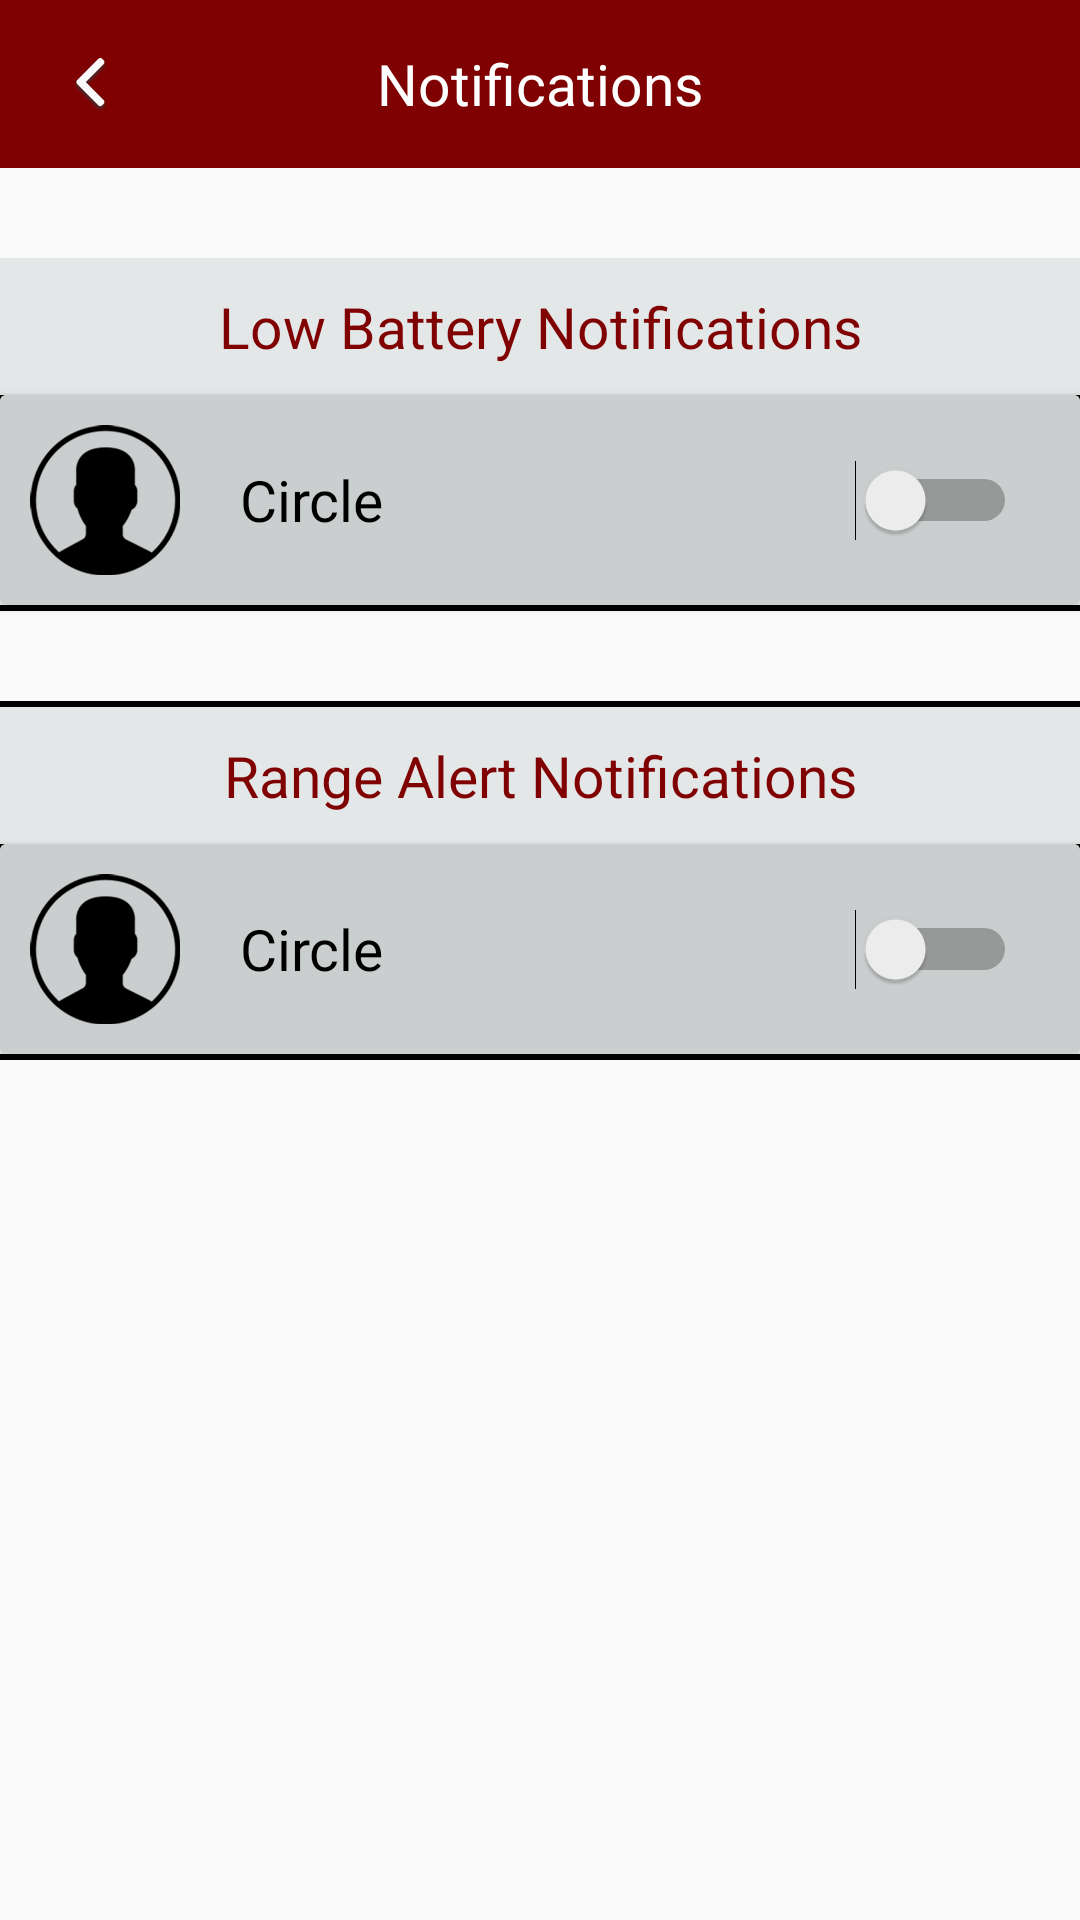

Icons on this 1080x1920 Android screen, each with its box as (x1, y1, x2, y2):
messages profile pic: (30, 425, 180, 575), (30, 874, 180, 1024)
